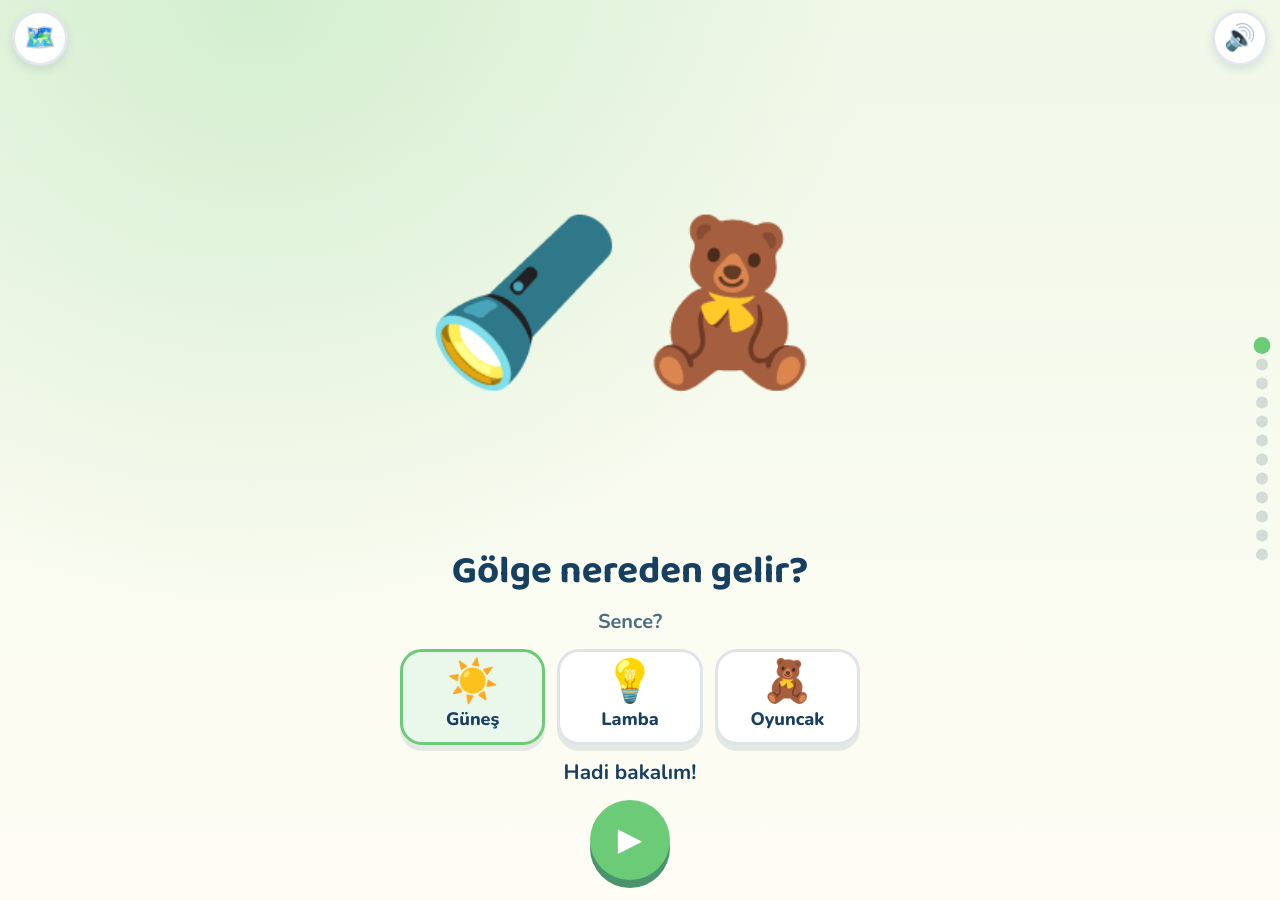
Scenario: CapsuleFeed › says 'Birlikte bakalım' on a wrong pick and reveals the answer
Earlier steps of the test are not shown.
Click the button named "Sonraki kart".
click(630, 840)  # box [590, 800, 670, 880]
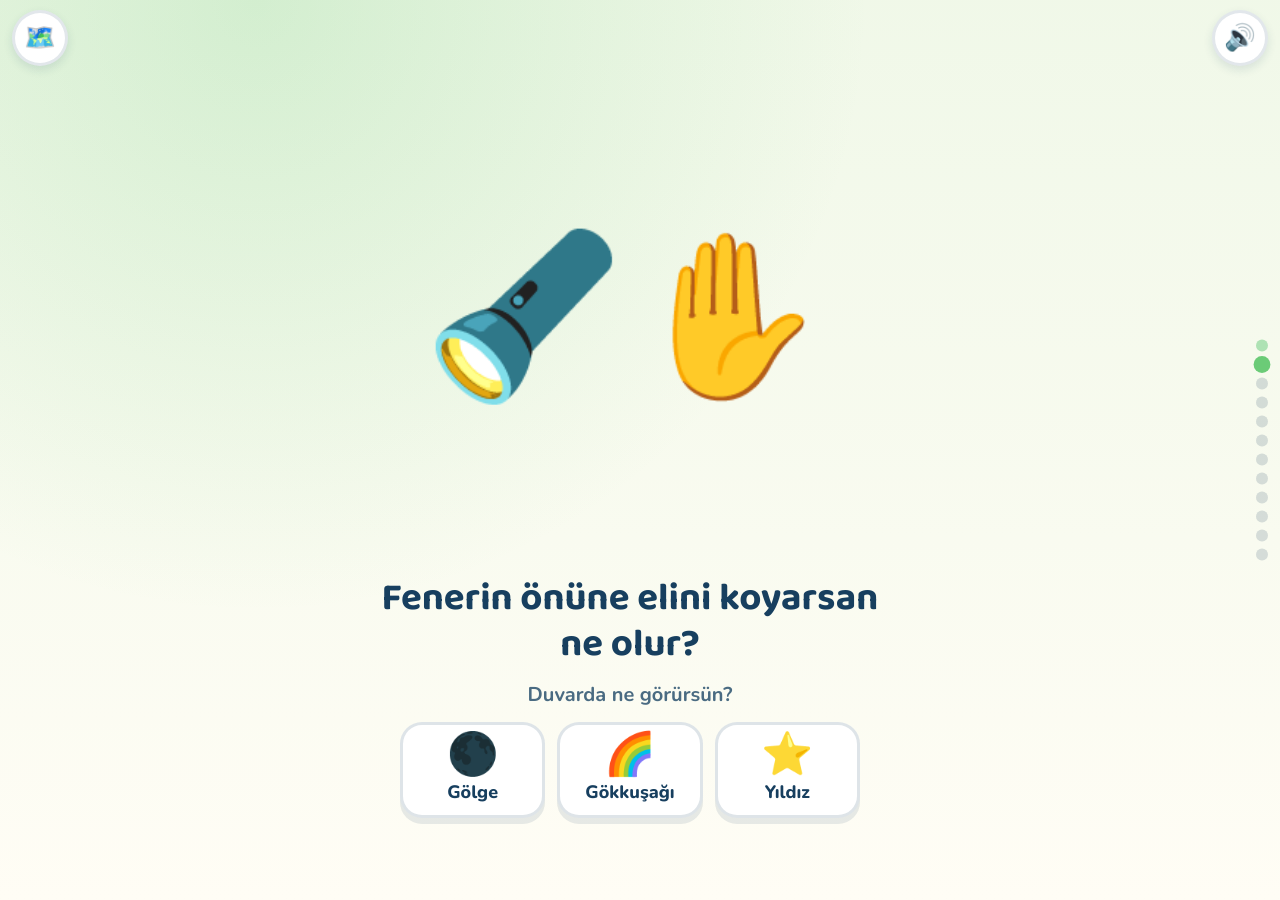
Click the button "🌑 Gölge".
click(473, 770)  # box [400, 722, 545, 818]
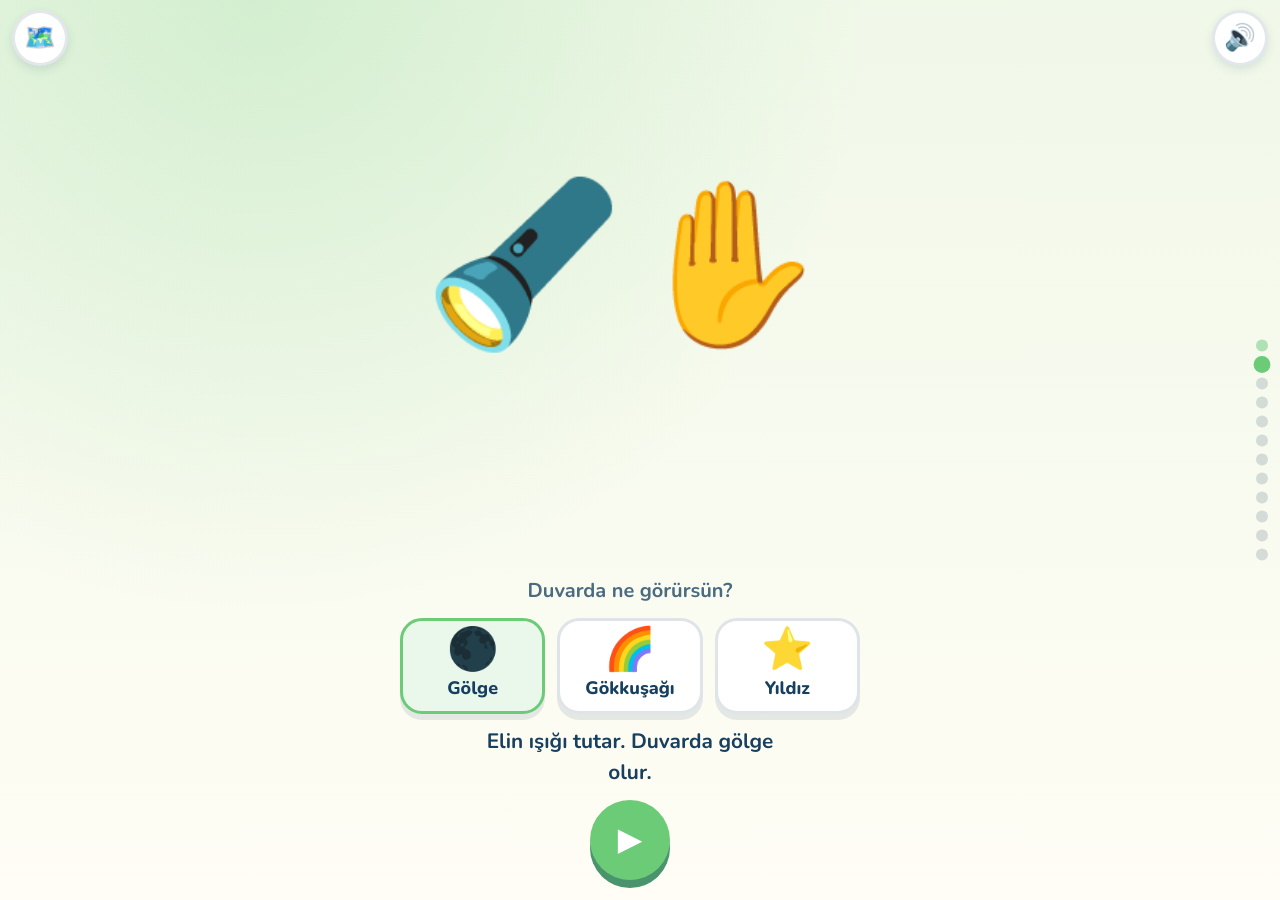
Click the button named "Sonraki kart".
click(630, 840)  # box [590, 800, 670, 880]
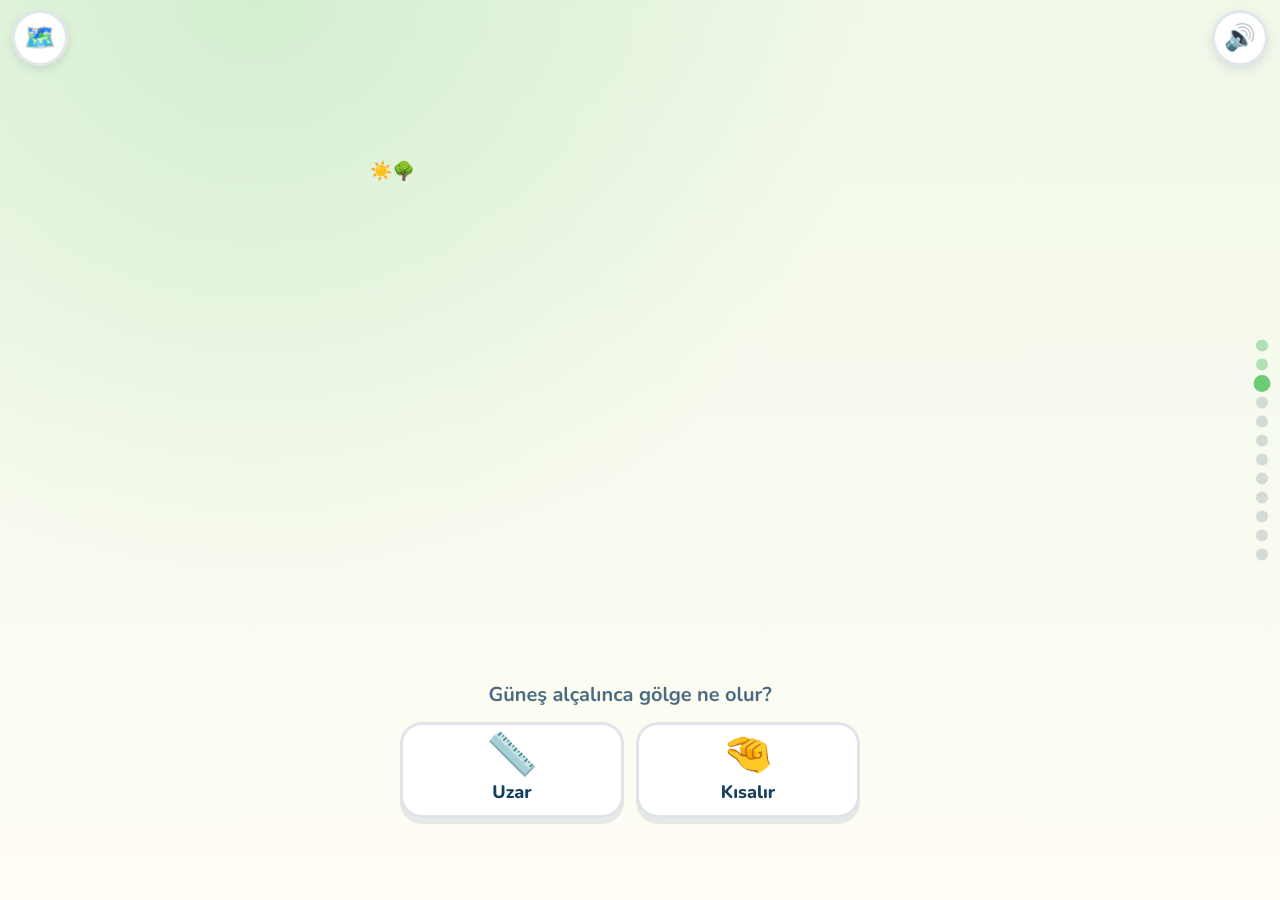
Click the button "📏 Uzar".
click(512, 770)  # box [400, 722, 624, 818]
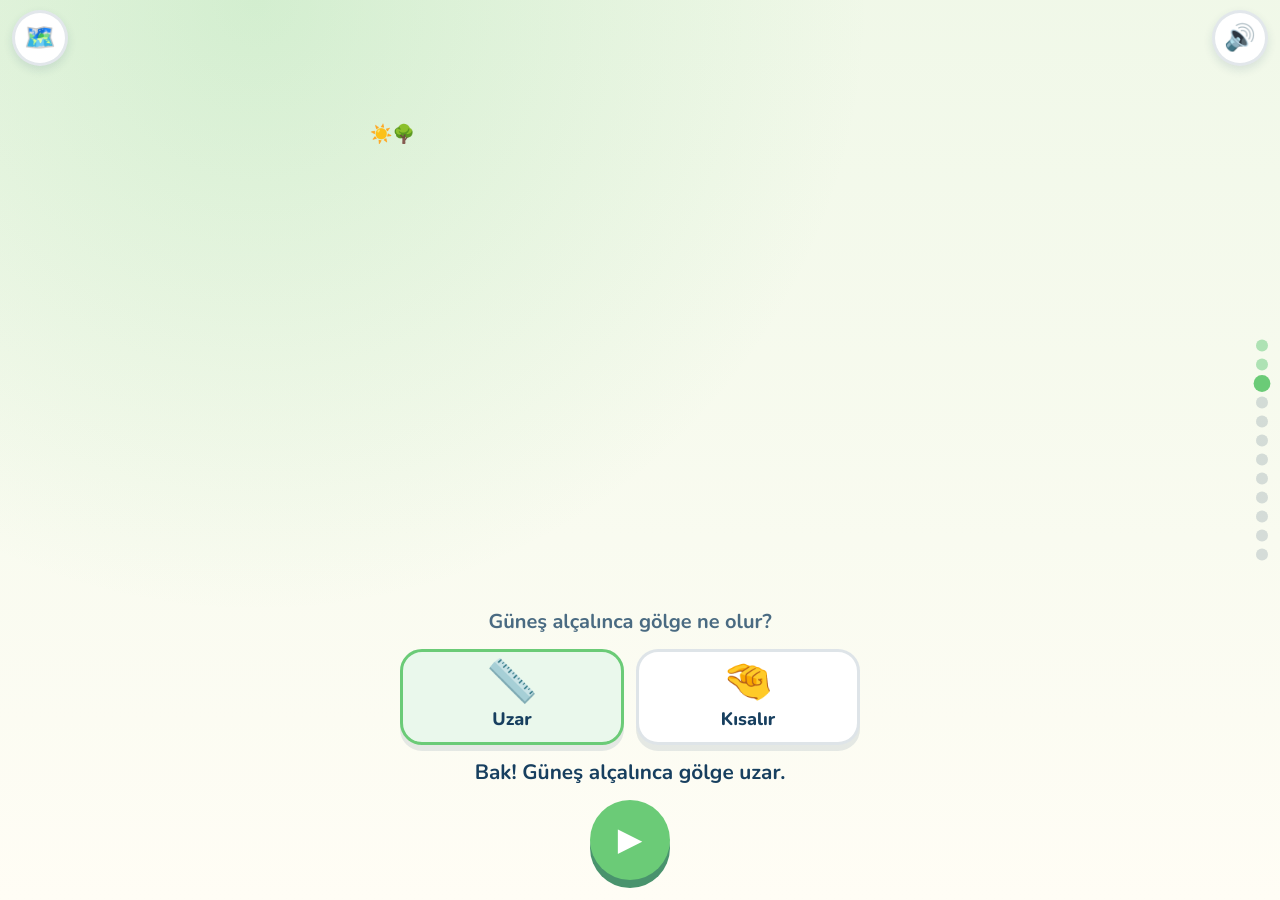
Click the button named "Sonraki kart".
click(630, 840)  # box [590, 800, 670, 880]
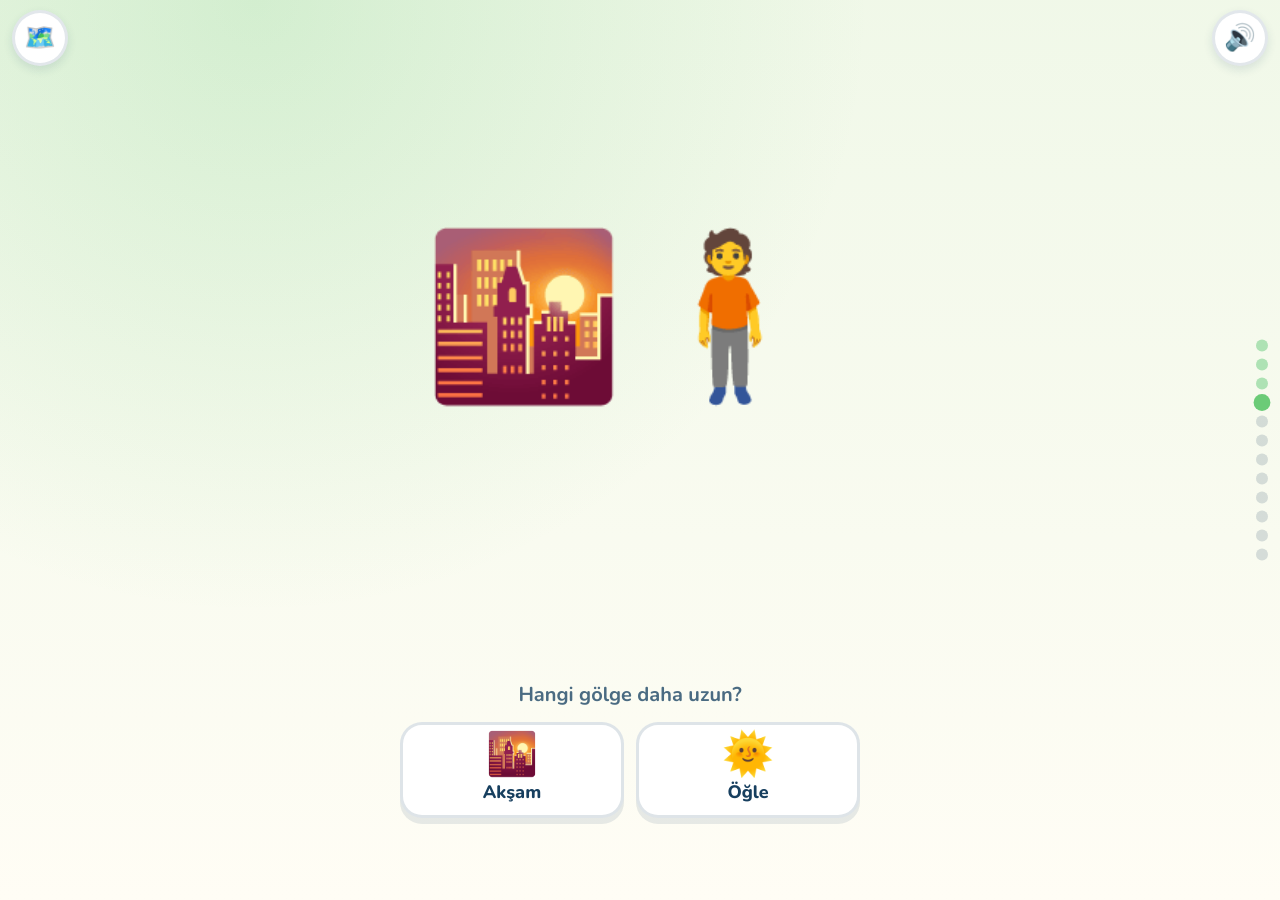
Click the button "🌞 Öğle".
click(748, 770)  # box [636, 722, 860, 818]
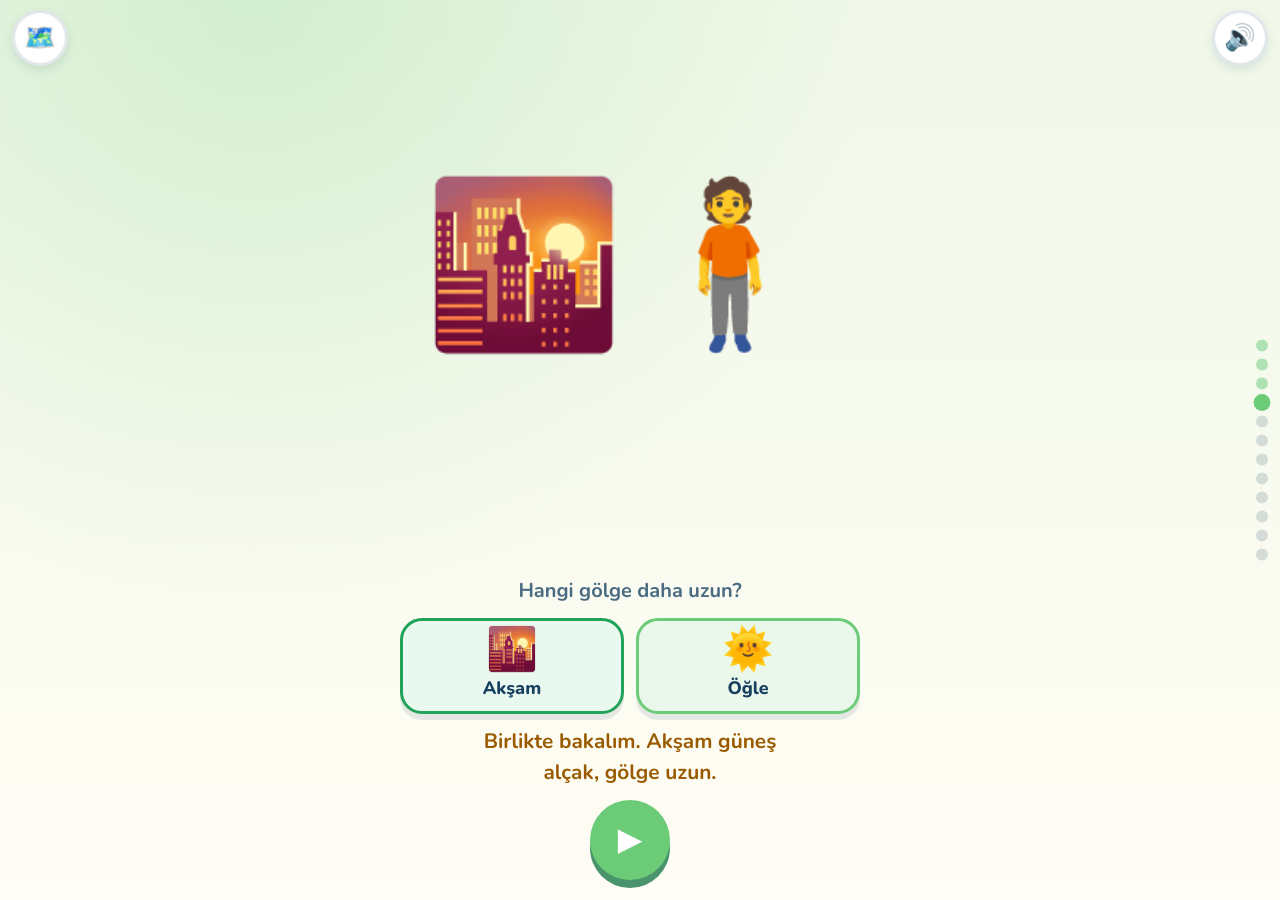
Now the button with class "is-answer" shows "Akşam", box [400, 618, 624, 714]
Now the message shows "Birlikte bakalım", box [484, 727, 776, 786]
